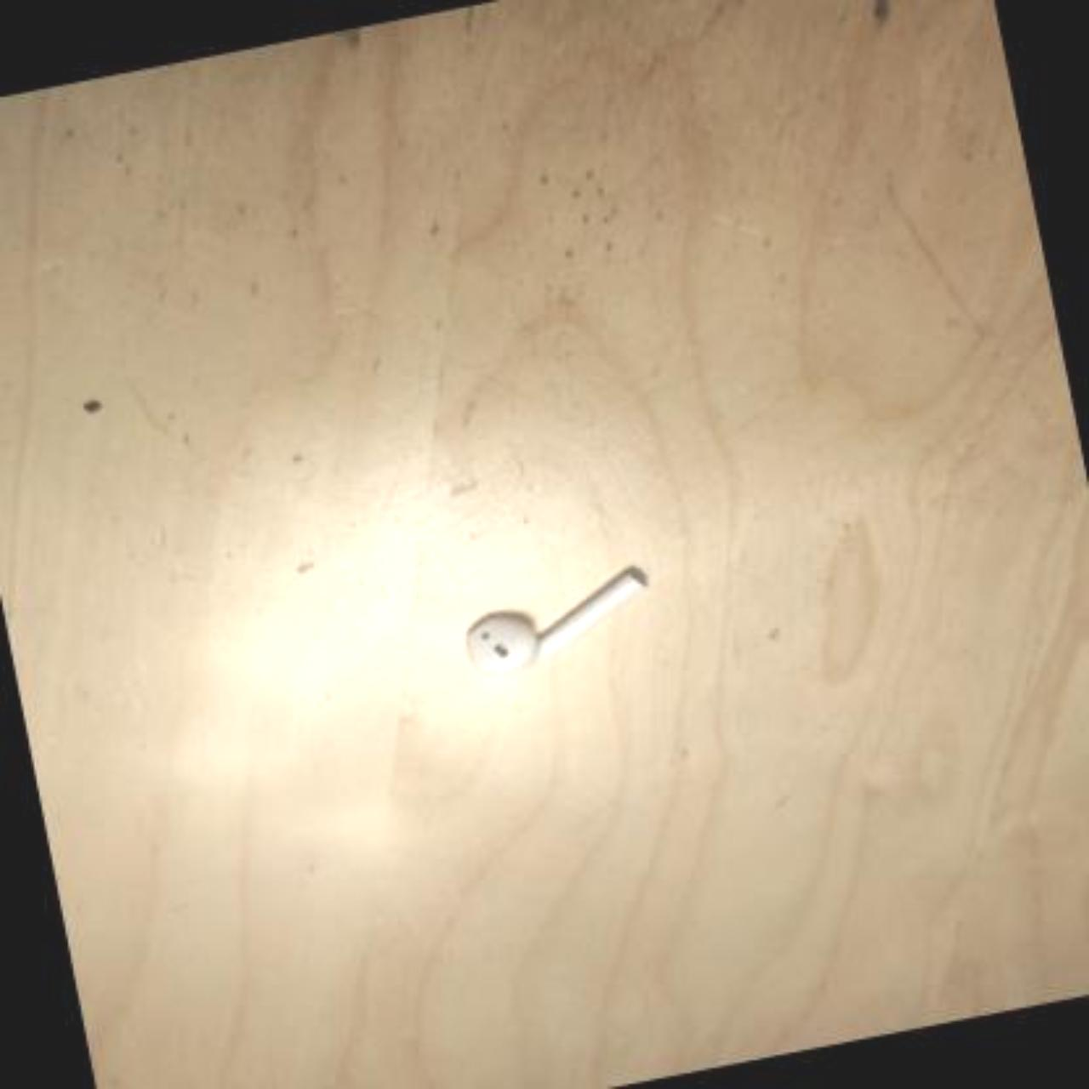Airpods_Units: (456, 547, 670, 686)
